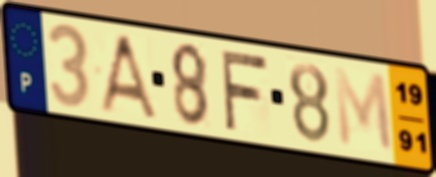3: (45, 22, 95, 111)
8: (284, 58, 333, 147), (169, 40, 213, 129)
A: (95, 31, 161, 122)
F: (218, 47, 270, 133)
M: (331, 64, 397, 157)
